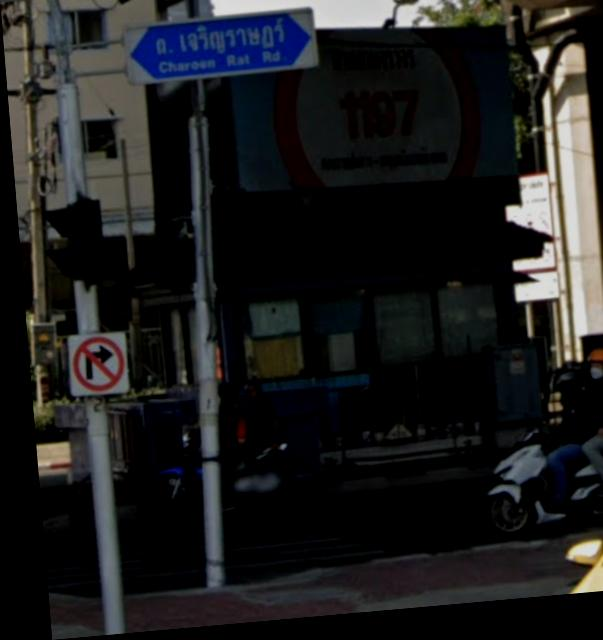not_turn_right: (65, 333, 122, 395)
